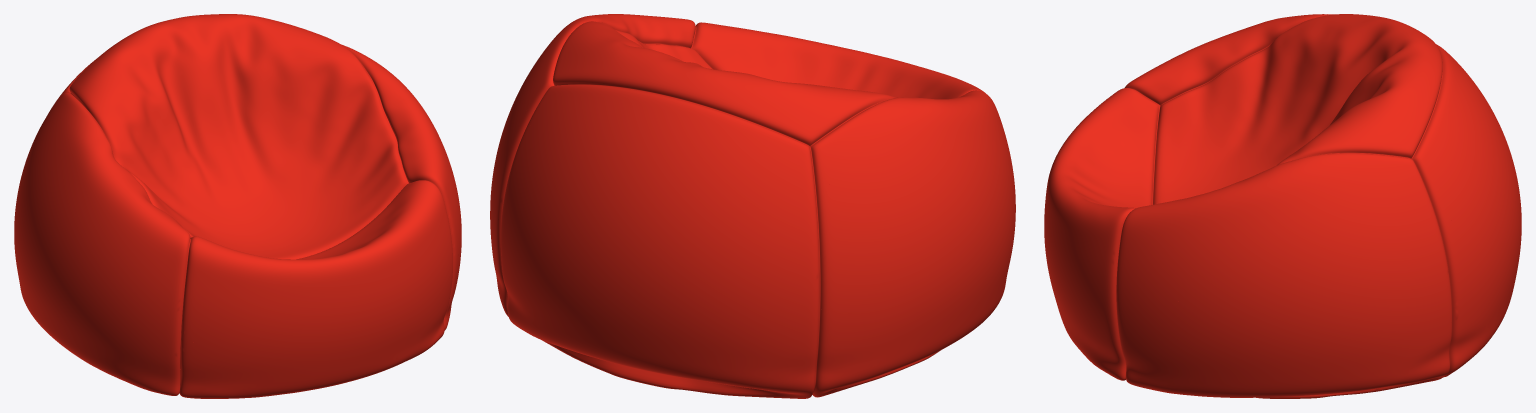
The model's file is obj_bean_bag_2461c4.glb.
3 renders of one model, left to right at view 1: azimuth 30°, elevation 25°; view 2: azimuth 150°, elevation 25°; view 3: azimuth 270°, elevation 25°, orthographic. The views are drawn at different scales.
Visible parts, largest first — view 1: obj_bean_bag_2461c4; view 2: obj_bean_bag_2461c4; view 3: obj_bean_bag_2461c4.
Boxes of the visible parts, <box> form: obj_bean_bag_2461c4: <box>14,14,461,398</box>; obj_bean_bag_2461c4: <box>490,14,1015,398</box>; obj_bean_bag_2461c4: <box>1044,14,1521,398</box>.
Bounding box in the file's own units: 1.14 × 0.7 × 1.14.
